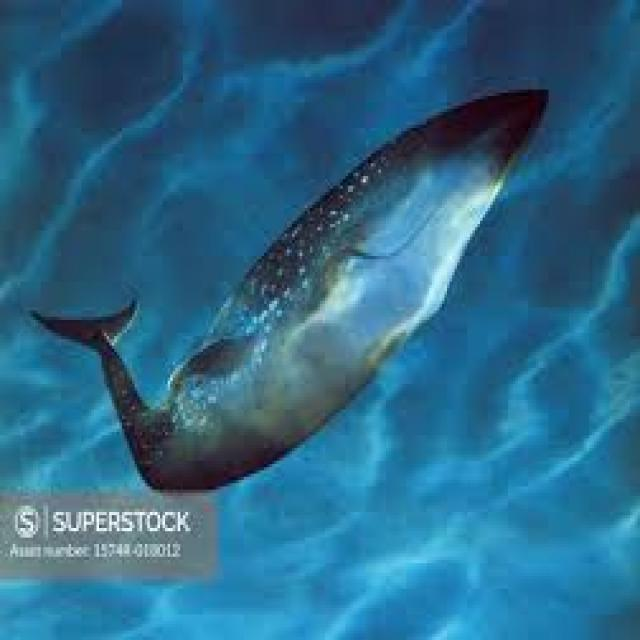blue_whale: (183, 51, 566, 573)
